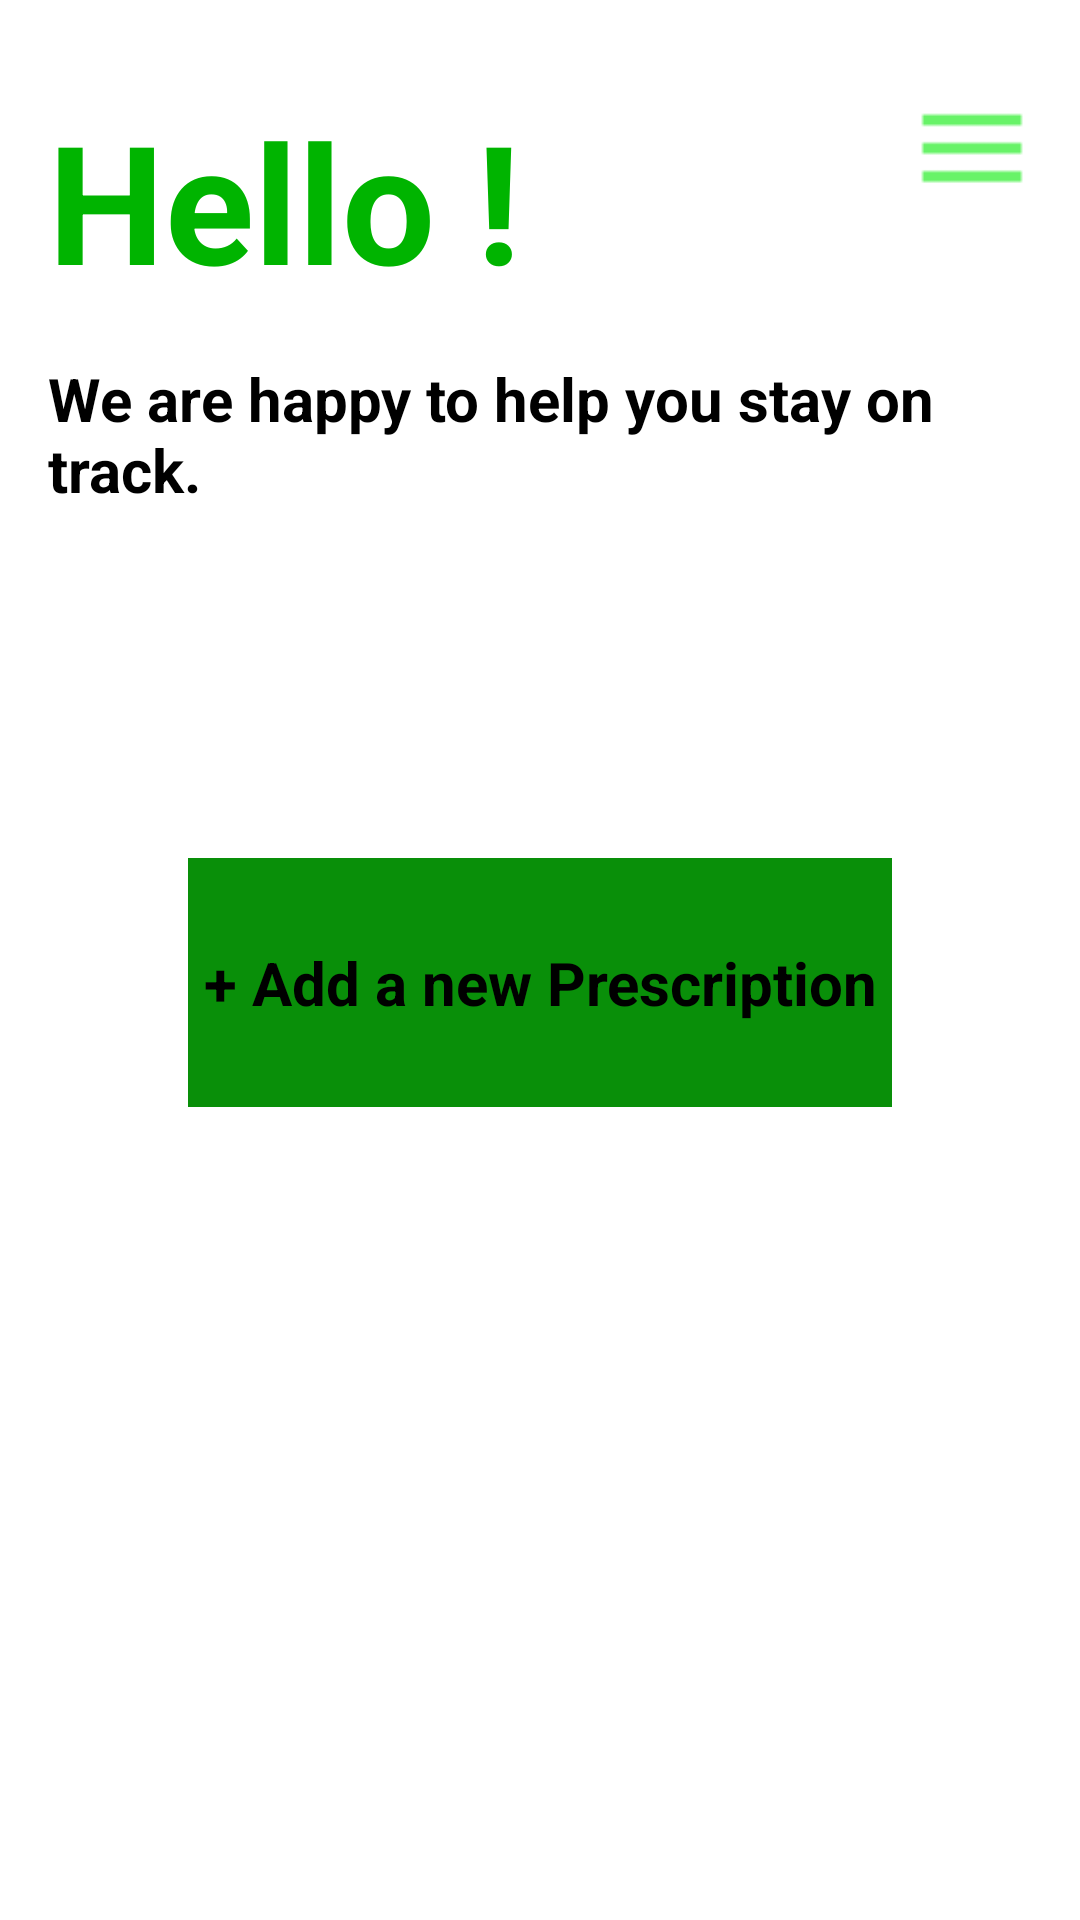

Icons on this 1080px×1920px Android screen, each with its box as bbox(x1, y1, x2, y2):
Menu: bbox(921, 114, 1023, 183)
